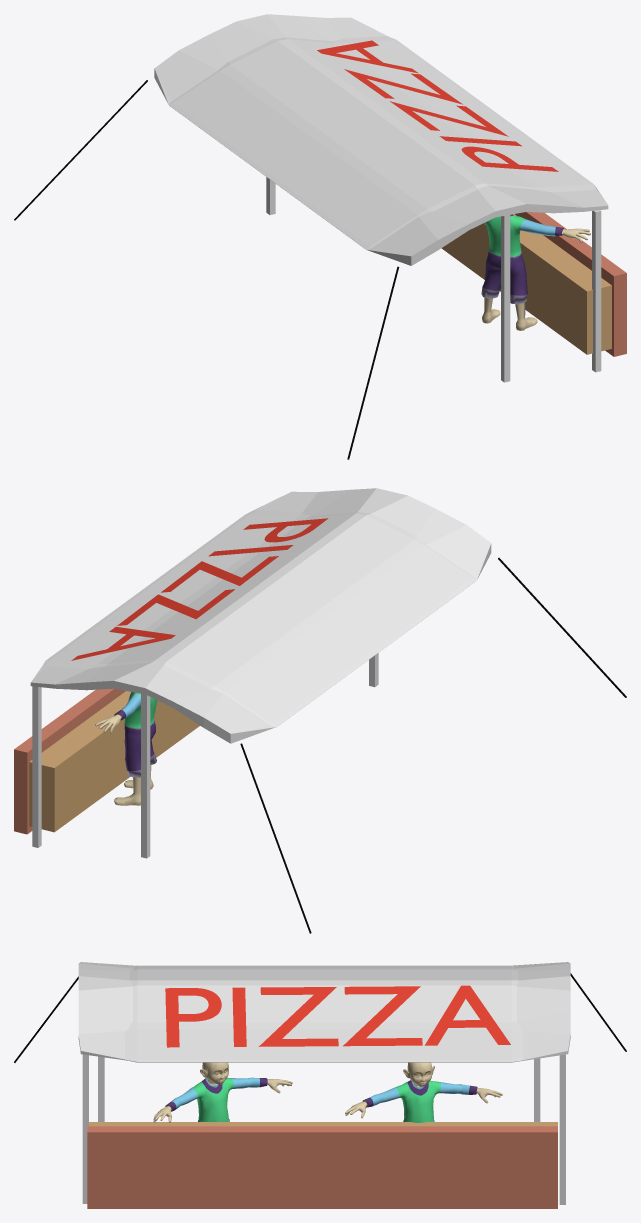
File: PizzaShop.fbx
The picture shows the model from 3 angles, top to bottom: view 1: azimuth 30°, elevation 25°; view 2: azimuth 150°, elevation 25°; view 3: azimuth 270°, elevation 25°; orthographic projection. The views are drawn at different scales.
Visible parts, largest first — view 1: Cube.003, Cube.008, Cube, Pizza, Cube.001, Cube.005; view 2: Cube.003, Cube.008, Cube, Pizza, Cube.002, Cube.004; view 3: Cube, Cube.003, Pizza, Cube.008, Cube.004, Cube.005, Cube.001, Cube.002.
Part boxes in pixels (x1=…): Cube.003: x1=154, y1=14, x2=608, y2=265; Cube.008: x1=441, y1=214, x2=611, y2=354; Cube: x1=481, y1=212, x2=626, y2=356; Pizza: x1=317, y1=40, x2=558, y2=171; Cube.001: x1=501, y1=215, x2=510, y2=382; Cube.005: x1=592, y1=210, x2=601, y2=372; Cube.003: x1=30, y1=488, x2=491, y2=743; Cube.008: x1=29, y1=691, x2=199, y2=832; Cube: x1=14, y1=688, x2=157, y2=834; Pizza: x1=71, y1=518, x2=328, y2=660; Cube.002: x1=141, y1=693, x2=150, y2=858; Cube.004: x1=32, y1=686, x2=41, y2=847; Cube: x1=87, y1=1062, x2=557, y2=1208; Cube.003: x1=78, y1=962, x2=570, y2=1062; Pizza: x1=165, y1=985, x2=510, y2=1047; Cube.008: x1=89, y1=1122, x2=557, y2=1126; Cube.004: x1=559, y1=1054, x2=565, y2=1204; Cube.005: x1=82, y1=1054, x2=88, y2=1203; Cube.001: x1=98, y1=1056, x2=104, y2=1121; Cube.002: x1=534, y1=1058, x2=540, y2=1121.
Bounding box in the file's own units: 2.79 × 1.54 × 4.71.
